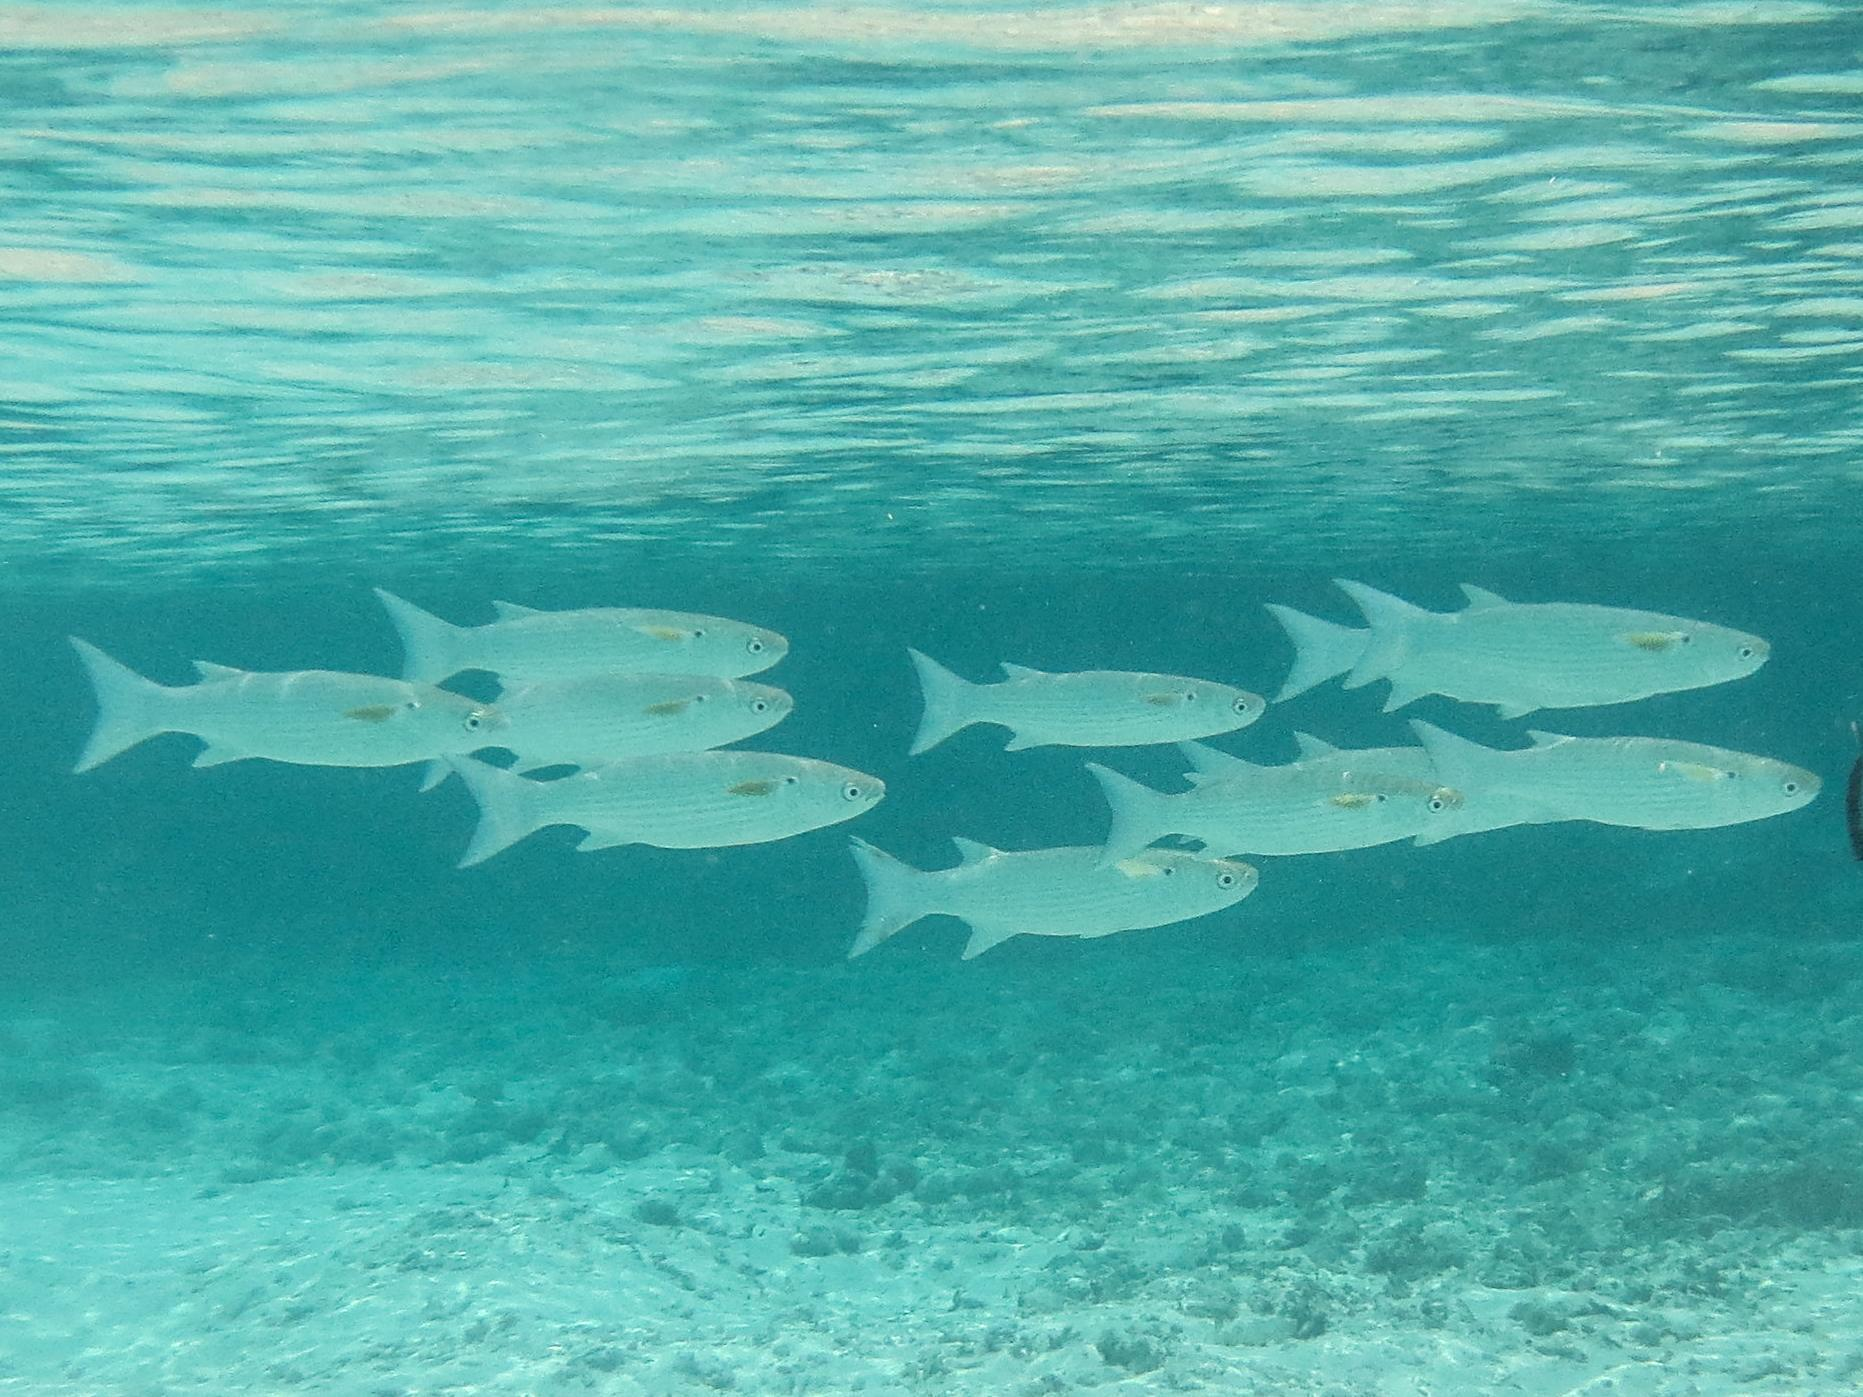Fish: (60, 600, 506, 800), (1336, 555, 1791, 715), (820, 831, 1325, 973), (1411, 718, 1840, 872)
